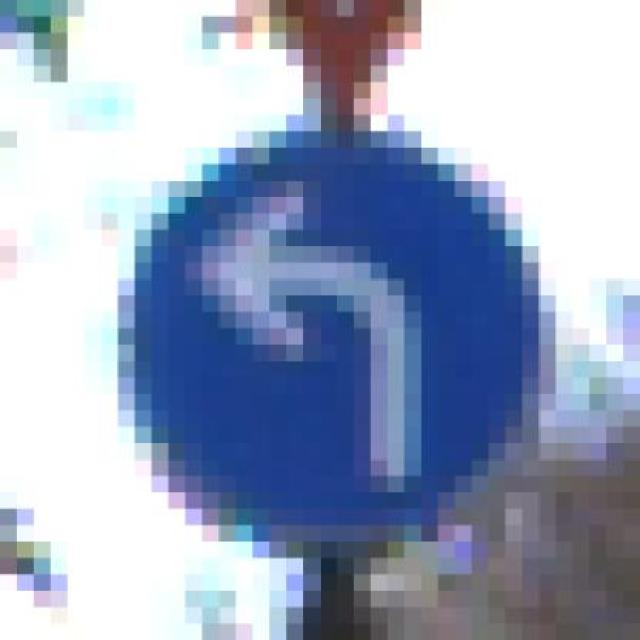Turn left ahead: (118, 115, 556, 542)
